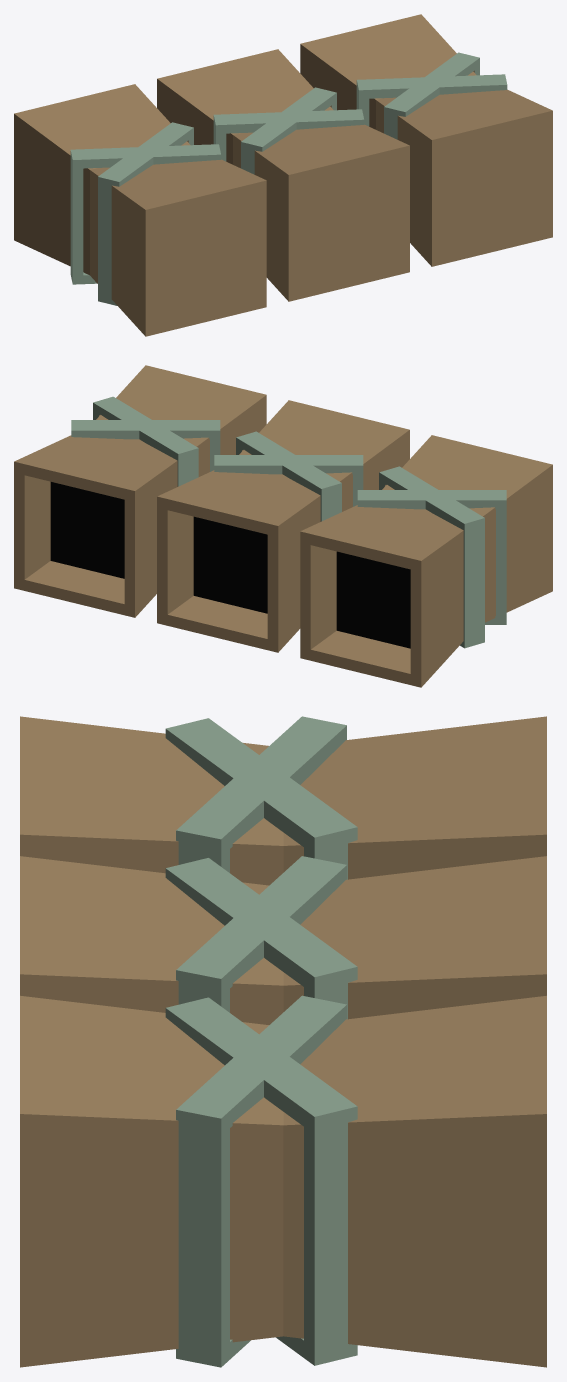
File: rock_slinger_barrel(multishot2).fbx
The picture shows the model from 3 angles, top to bottom: view 1: azimuth 30°, elevation 25°; view 2: azimuth 150°, elevation 25°; view 3: azimuth 270°, elevation 25°; orthographic projection. The views are drawn at different scales.
Parts seen in each view (by area): view 1: barrel(multishot2); view 2: barrel(multishot2); view 3: barrel(multishot2).
Boxes of the visible parts, x1,y1,x2,y2 form: barrel(multishot2): (14,14,552,336); barrel(multishot2): (14,365,552,687); barrel(multishot2): (20,716,546,1367).
Size of the model in its own units: 85.03 by 24.99 by 47.04.
3 materials, 3 textured.
